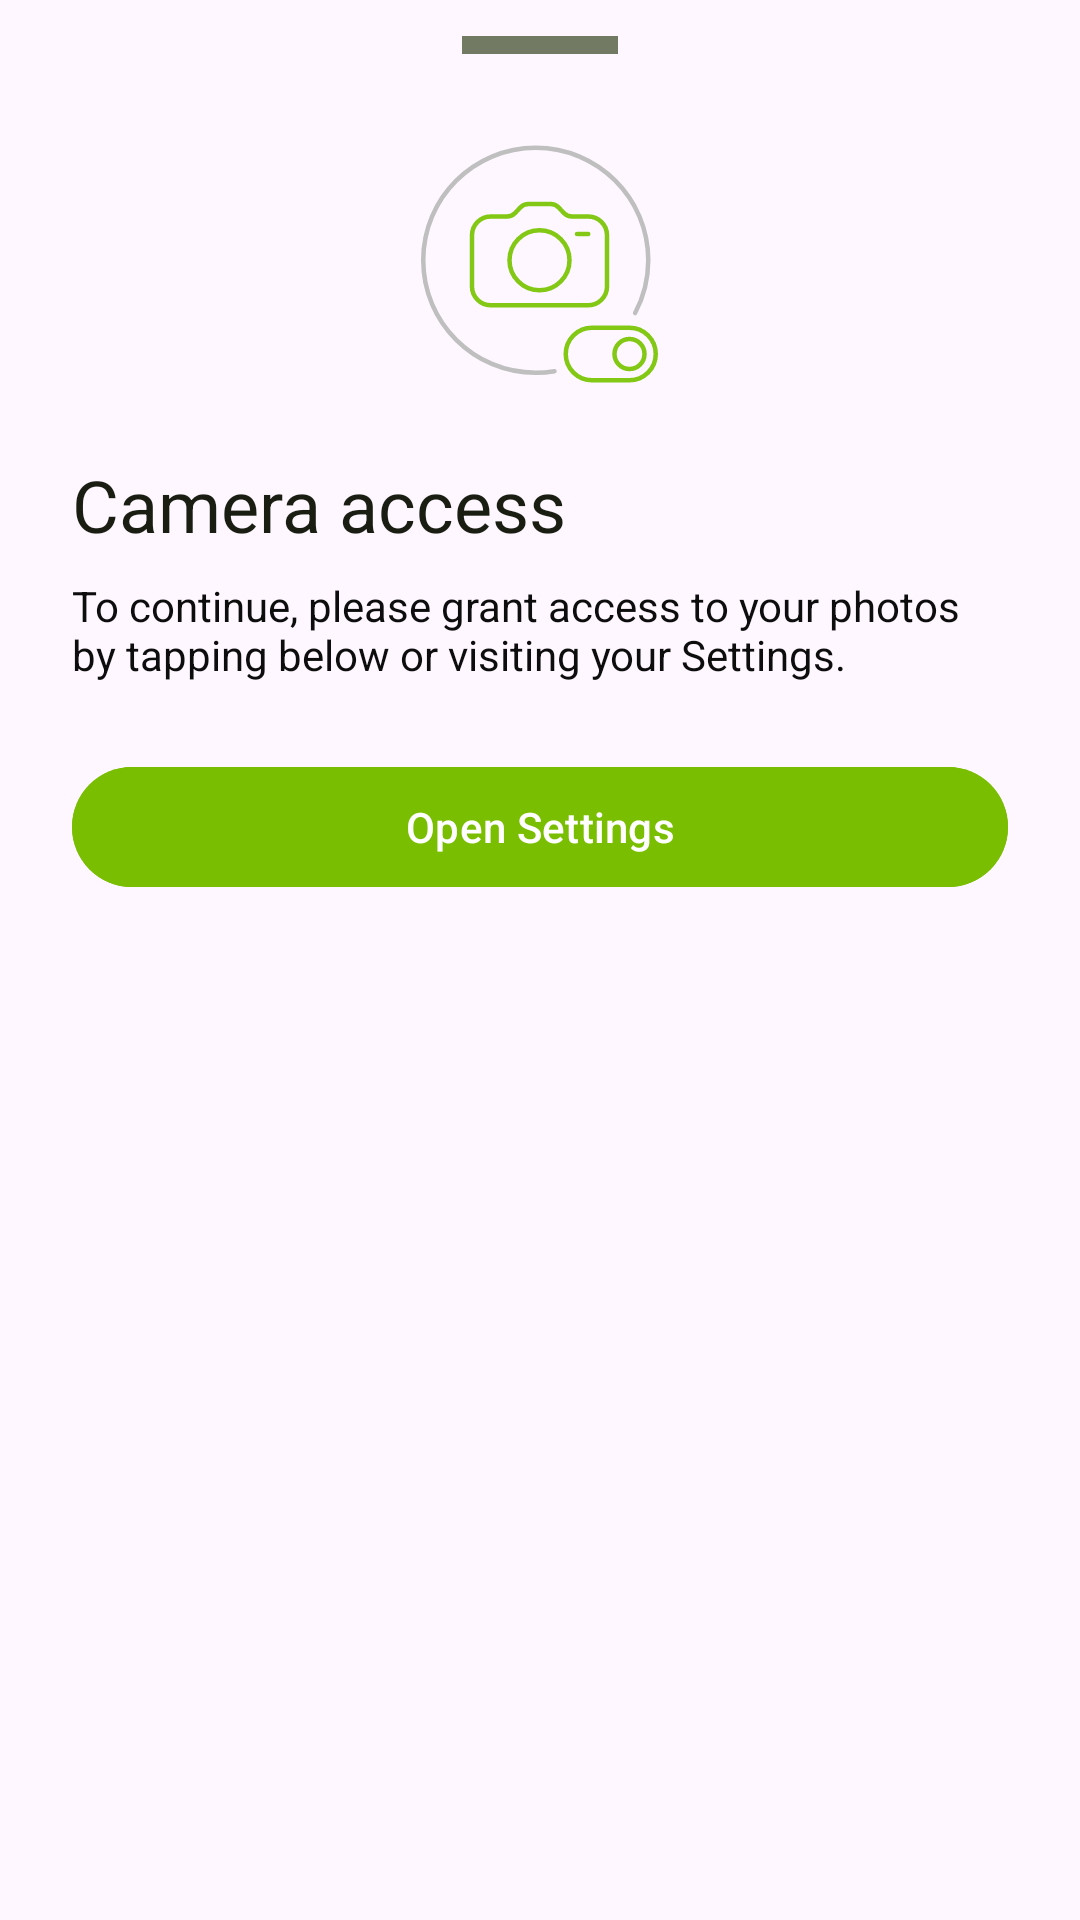

Screen size 1080*1920. Icon name, then its box in pixels as Rect(x1, y1, x2, y2):
camera bsheet: Rect(421, 145, 658, 383)
